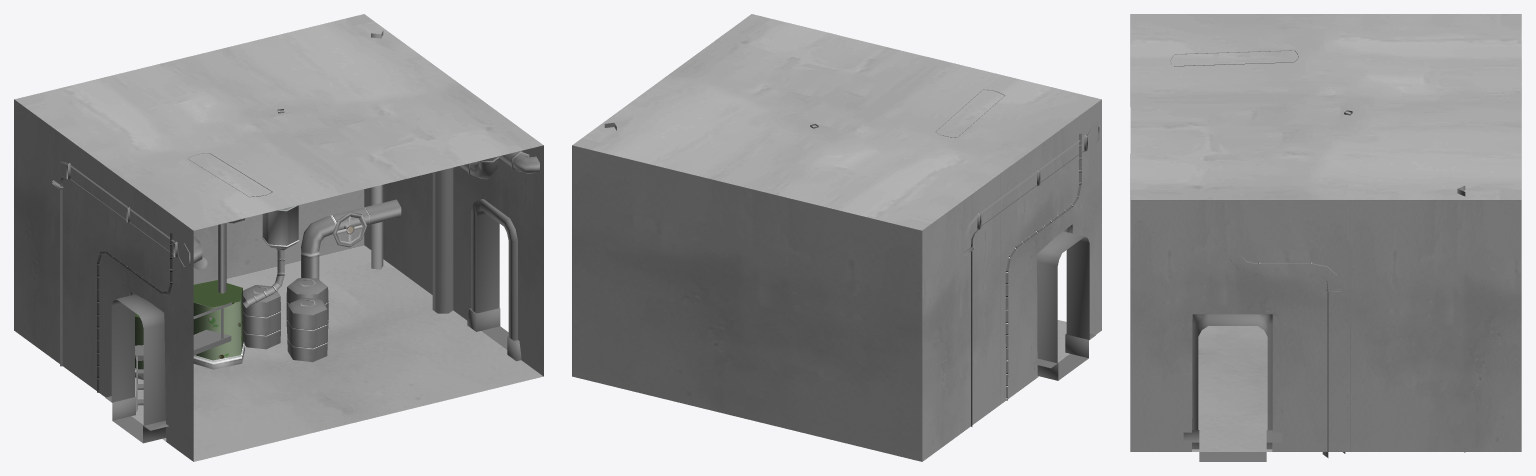
The model's file is MHS_Water_L2_R1_optimized.fbx.
3 renders of one model, left to right at view 1: azimuth 30°, elevation 25°; view 2: azimuth 150°, elevation 25°; view 3: azimuth 270°, elevation 25°, orthographic. The views are drawn at different scales.
Parts seen in each view (by area): view 1: lightmap1, MHS_Water_L2_door, lightmap-1, MHS_hatch_ani_01 1; view 2: lightmap1, MHS_Water_L2_door; view 3: lightmap1, MHS_Water_L2_door.
Boxes of the visible parts, bbox=[...] form: lightmap1: bbox=[14, 14, 543, 461]; MHS_Water_L2_door: bbox=[111, 210, 508, 443]; lightmap-1: bbox=[135, 256, 243, 369]; MHS_hatch_ani_01 1: bbox=[332, 211, 367, 247]; lightmap1: bbox=[572, 14, 1101, 461]; MHS_Water_L2_door: bbox=[1037, 231, 1089, 380]; lightmap1: bbox=[1130, 14, 1521, 457]; MHS_Water_L2_door: bbox=[1198, 314, 1267, 461].
Bounding box in the file's own units: 10.3 × 6.11 × 8.26.
6 materials, 6 textured.
